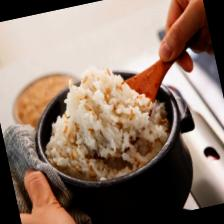rice: (30, 56, 178, 190)
